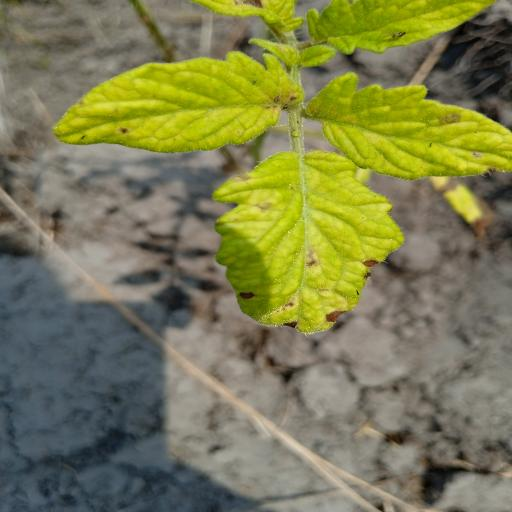Tomato_Brown_Spots: (208, 139, 410, 352), (49, 43, 301, 162), (304, 68, 512, 184)
